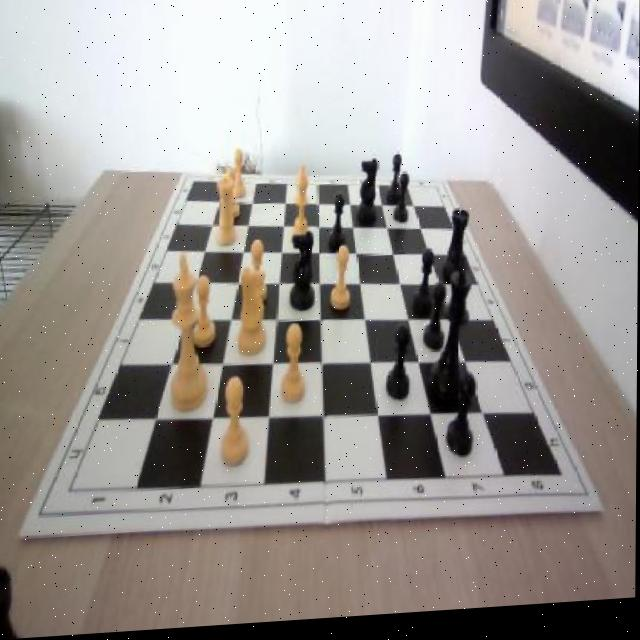black-bishop: (428, 267, 474, 414)
black-king: (289, 232, 318, 315), (357, 160, 379, 233)
black-knight: (447, 378, 476, 463), (387, 327, 413, 406), (422, 287, 447, 358), (413, 252, 435, 321), (329, 197, 348, 255), (394, 177, 410, 231), (388, 159, 404, 210)
black-queen: (443, 211, 469, 286)
black-rook: (288, 163, 314, 262)
white-bishop: (167, 253, 210, 415)
white-king: (232, 259, 271, 363)
white-knight: (218, 379, 251, 471), (279, 324, 311, 410), (190, 276, 218, 354), (244, 243, 269, 312), (334, 247, 355, 314), (229, 155, 248, 204), (223, 170, 241, 221), (388, 159, 404, 210)
white-queen: (215, 178, 239, 250)
